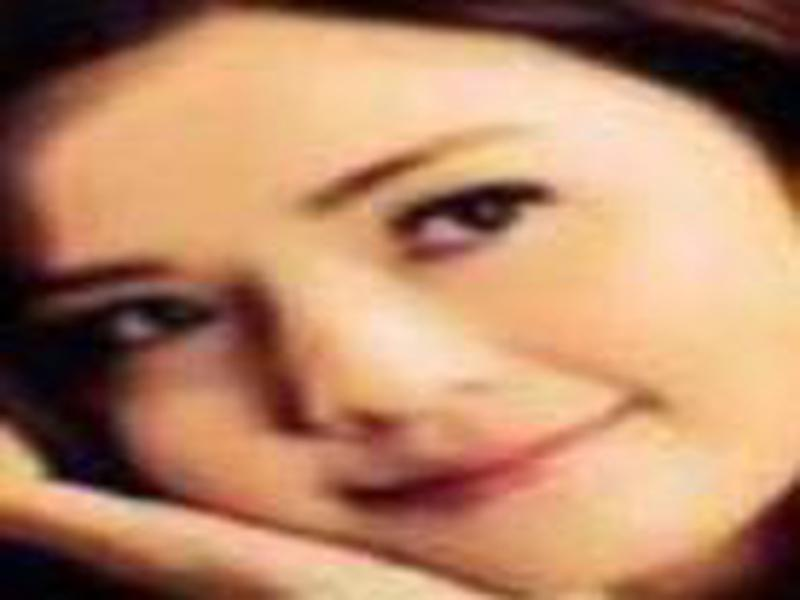without_mask: (10, 34, 783, 580)
